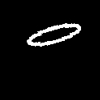chain: (27, 23, 80, 45)
